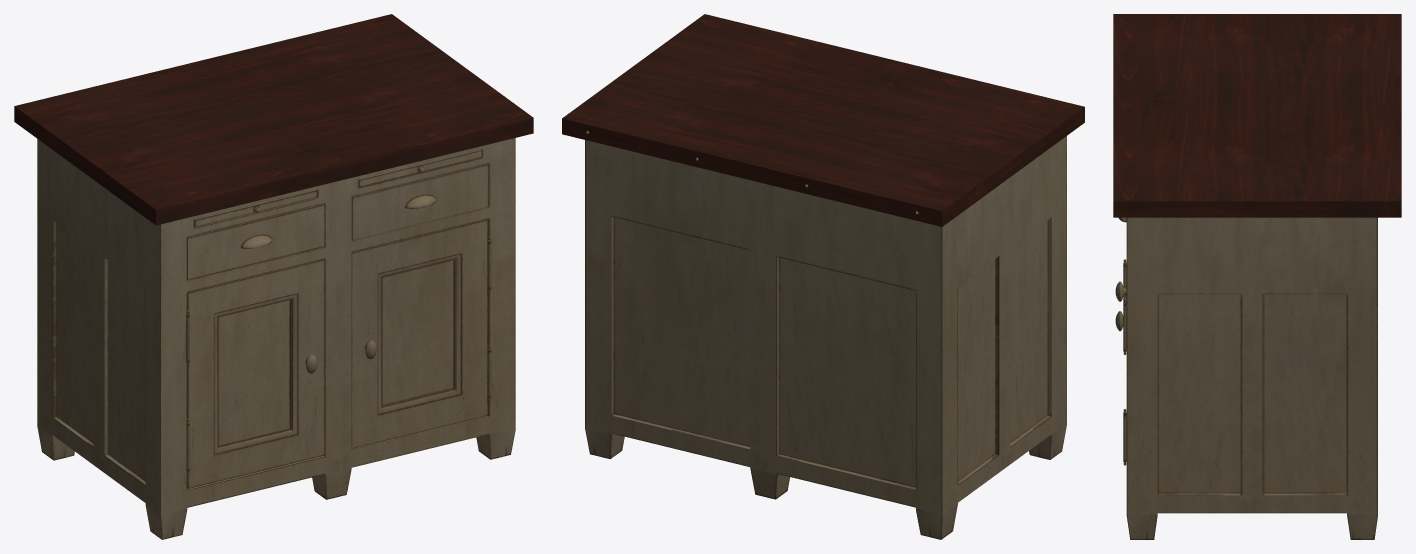
Rendered from example101.gltf.
3 views of the same model, side by side, from view 1: azimuth 30°, elevation 25°; view 2: azimuth 150°, elevation 25°; view 3: azimuth 270°, elevation 25° (orthographic).
Size of the model in its own units: 100 by 86 by 65.
3 materials, 2 textured.
